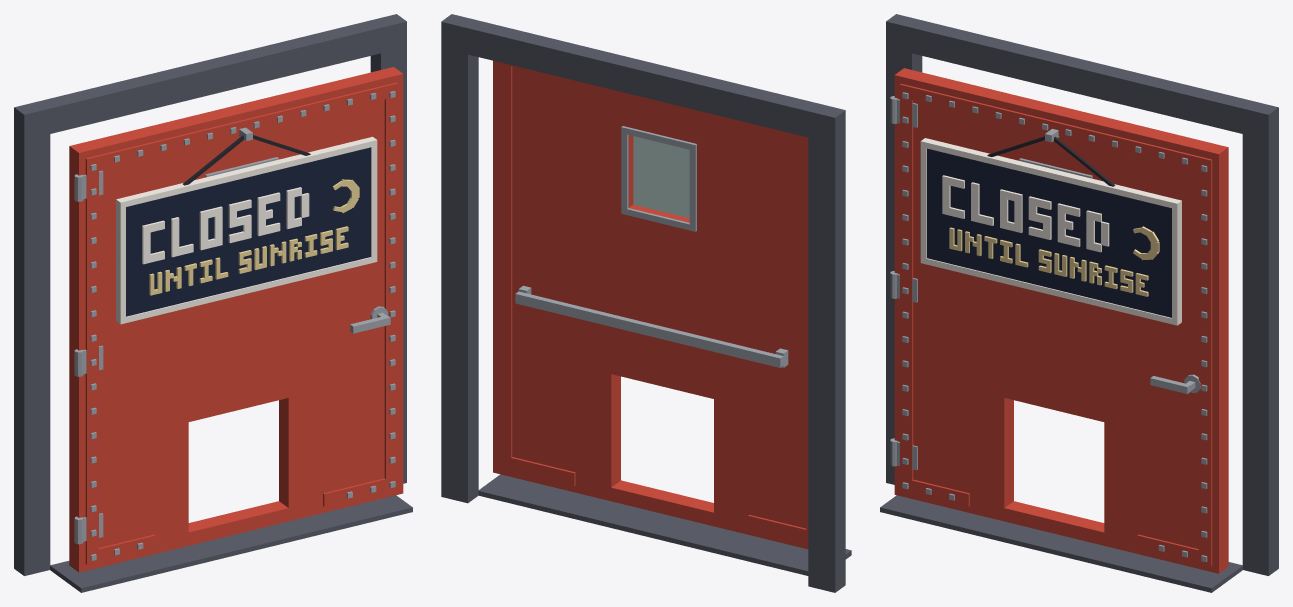
Rendered from CatCafe_Door_FireEscape_Back.glb.
3 renders of one model, left to right at view 1: azimuth 30°, elevation 25°; view 2: azimuth 150°, elevation 25°; view 3: azimuth 330°, elevation 25°, orthographic. The views are drawn at different scales.
Visible parts, largest first — view 1: CatCafe_Door_FireEscape_Back_Leaf, CatCafe_Door_FireEscape_Back, CatCafe_Door_FireEscape_Back_Sign, CatCafe_Door_FireEscape_Back_Sign_Bulb; view 2: CatCafe_Door_FireEscape_Back_Leaf, CatCafe_Door_FireEscape_Back, CatCafe_Door_FireEscape_Back_Leaf_Glass; view 3: CatCafe_Door_FireEscape_Back_Leaf, CatCafe_Door_FireEscape_Back, CatCafe_Door_FireEscape_Back_Sign, CatCafe_Door_FireEscape_Back_Sign_Bulb.
Part boxes in pixels (x1,y1,x2,y2): CatCafe_Door_FireEscape_Back_Leaf: (69,67,403,572); CatCafe_Door_FireEscape_Back: (14,14,412,592); CatCafe_Door_FireEscape_Back_Sign: (116,127,377,324); CatCafe_Door_FireEscape_Back_Sign_Bulb: (142,179,359,295); CatCafe_Door_FireEscape_Back_Leaf: (493,60,808,549); CatCafe_Door_FireEscape_Back: (441,14,851,592); CatCafe_Door_FireEscape_Back_Leaf_Glass: (633,136,689,218); CatCafe_Door_FireEscape_Back_Leaf: (890,68,1228,573); CatCafe_Door_FireEscape_Back: (880,14,1278,592); CatCafe_Door_FireEscape_Back_Sign: (920,128,1181,325); CatCafe_Door_FireEscape_Back_Sign_Bulb: (942,175,1159,296).
Size of the model in its own units: 6.9 by 7.95 by 1.33.
Materials: 1 (1 with a texture image).
